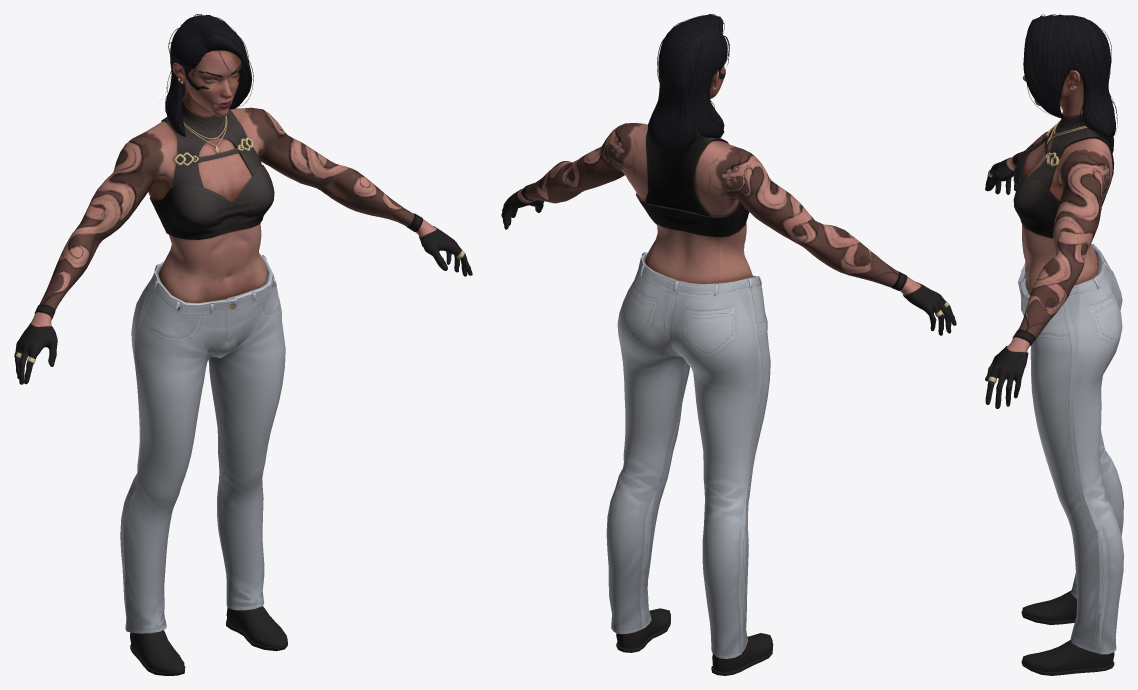
Rendered from black-mamba.fbx.
3 renders of one model, left to right at view 1: azimuth 30°, elevation 25°; view 2: azimuth 150°, elevation 25°; view 3: azimuth 270°, elevation 25°, orthographic.
Visible parts, largest first — view 1: Pants_low_M_Clothes_0, BaseBody_low_M_Body_0, Top_low_M_Clothes_0, Hair_low_M_Hair_0, Shoes_low_M_Clothes_0, Gloves_low_M_Clothes_0, Hairstrants_low_M_Hair_0; view 2: Pants_low_M_Clothes_0, BaseBody_low_M_Body_0, Hair_low_M_Hair_0, Top_low_M_Clothes_0, Shoes_low_M_Clothes_0, Gloves_low_M_Clothes_0, Hairstrants_low_M_Hair_0; view 3: Pants_low_M_Clothes_0, BaseBody_low_M_Body_0, Hair_low_M_Hair_0, Top_low_M_Clothes_0, Shoes_low_M_Clothes_0, Gloves_low_M_Clothes_0, Hairstrants_low_M_Hair_0, Armbands_low_M_Clothes_0.
Part boxes in pixels (bbox=[...]): Pants_low_M_Clothes_0: bbox=[120, 255, 285, 633]; BaseBody_low_M_Body_0: bbox=[30, 50, 436, 326]; Top_low_M_Clothes_0: bbox=[149, 95, 274, 239]; Hair_low_M_Hair_0: bbox=[165, 15, 252, 136]; Shoes_low_M_Clothes_0: bbox=[130, 606, 287, 675]; Gloves_low_M_Clothes_0: bbox=[14, 226, 472, 384]; Hairstrants_low_M_Hair_0: bbox=[161, 14, 253, 126]; Pants_low_M_Clothes_0: bbox=[606, 252, 770, 658]; BaseBody_low_M_Body_0: bbox=[517, 60, 920, 295]; Hair_low_M_Hair_0: bbox=[648, 14, 727, 156]; Top_low_M_Clothes_0: bbox=[636, 130, 749, 236]; Shoes_low_M_Clothes_0: bbox=[616, 608, 773, 675]; Gloves_low_M_Clothes_0: bbox=[501, 189, 956, 335]; Hairstrants_low_M_Hair_0: bbox=[649, 14, 729, 152]; Pants_low_M_Clothes_0: bbox=[1018, 243, 1123, 654]; BaseBody_low_M_Body_0: bbox=[1006, 70, 1112, 354]; Hair_low_M_Hair_0: bbox=[1023, 14, 1115, 139]; Top_low_M_Clothes_0: bbox=[1013, 111, 1114, 238]; Shoes_low_M_Clothes_0: bbox=[1021, 590, 1114, 675]; Gloves_low_M_Clothes_0: bbox=[985, 157, 1028, 408]; Hairstrants_low_M_Hair_0: bbox=[1026, 14, 1117, 138]; Armbands_low_M_Clothes_0: bbox=[1012, 151, 1035, 345].
Size of the model in its own units: 206 by 278 by 55.83.
4 materials, 3 textured.
